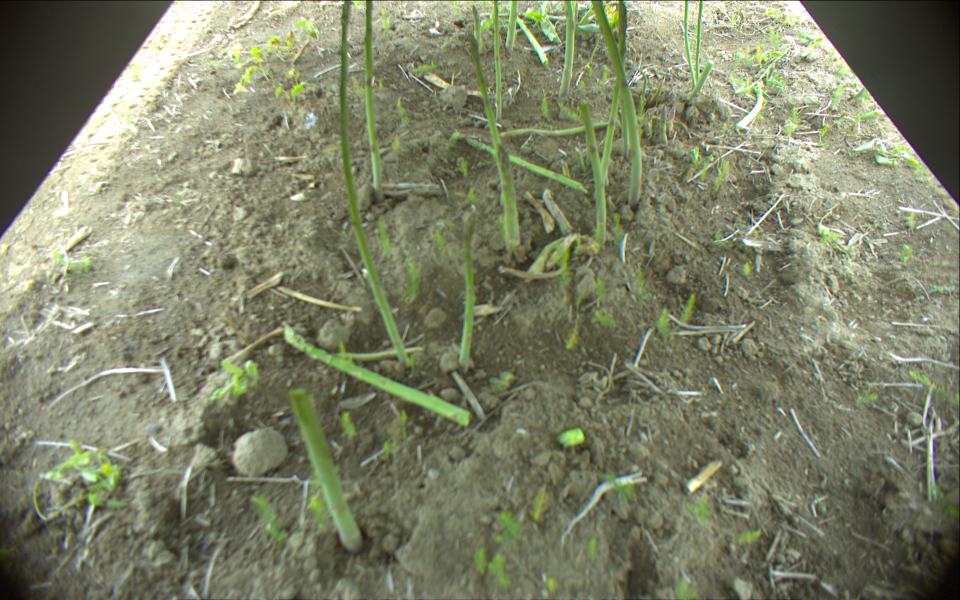aspa: (337, 1, 411, 368), (281, 327, 471, 427), (288, 390, 366, 553), (468, 36, 521, 253), (590, 1, 644, 206), (466, 139, 586, 192), (600, 1, 630, 181), (576, 99, 608, 245), (363, 1, 383, 202), (458, 209, 477, 370), (499, 121, 609, 137), (490, 1, 504, 121), (515, 18, 550, 63), (558, 1, 574, 98), (682, 1, 696, 87), (738, 84, 763, 130), (692, 59, 714, 95), (695, 1, 704, 82), (505, 1, 518, 51), (650, 74, 666, 107), (471, 5, 481, 55), (659, 104, 669, 142), (576, 148, 586, 172)
